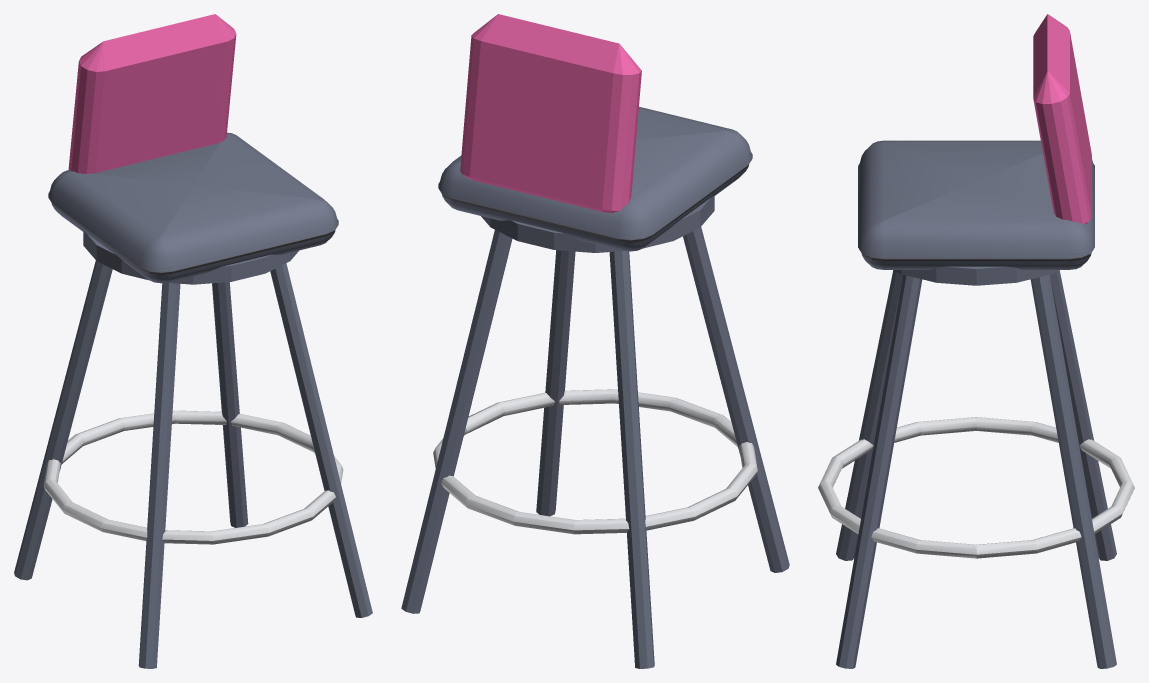
File: bar_banqueta.glb
The picture shows the model from 3 angles, left to right: view 1: azimuth 30°, elevation 25°; view 2: azimuth 150°, elevation 25°; view 3: azimuth 270°, elevation 25°; orthographic projection. The views are drawn at different scales.
Parts seen in each view (by area): view 1: bar-stool; view 2: bar-stool; view 3: bar-stool.
Boxes of the visible parts, box(x1,y1,x2,y2) form: bar-stool: box(14, 14, 372, 668); bar-stool: box(401, 14, 789, 668); bar-stool: box(818, 14, 1134, 668).
Size of the model in its own units: 0.514 by 1.02 by 0.514.
